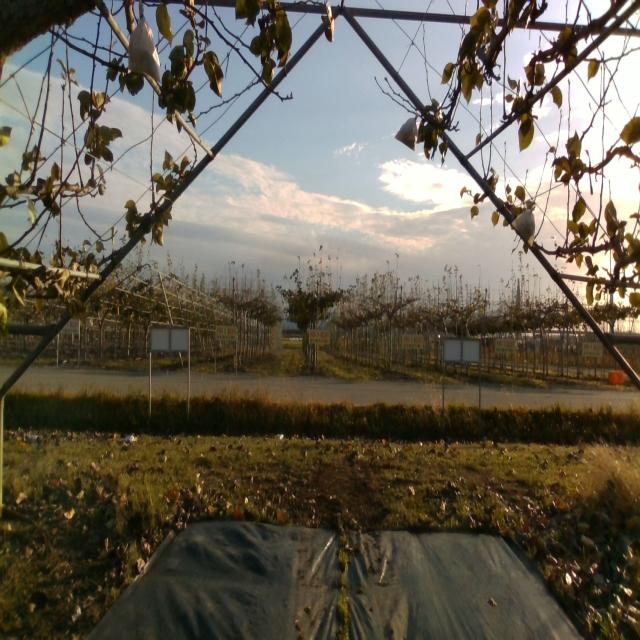pearbags: (127, 1, 162, 82), (510, 203, 536, 246), (394, 110, 418, 154)
